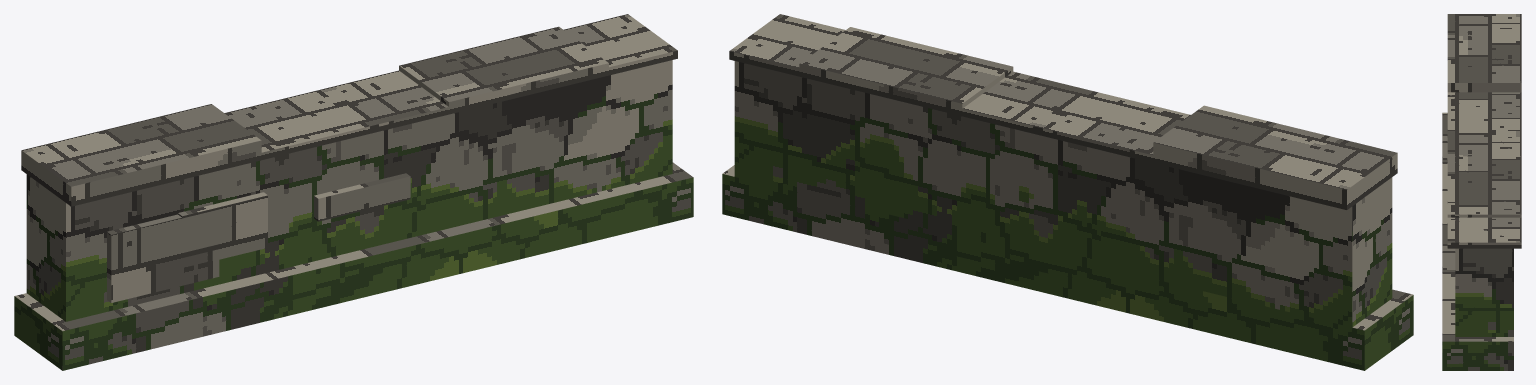
File: MV_Retaining_Stone.glb
3 renders of one model, left to right at view 1: azimuth 30°, elevation 25°; view 2: azimuth 150°, elevation 25°; view 3: azimuth 270°, elevation 25°, orthographic. The views are drawn at different scales.
Visible parts, largest first — view 1: MV_Retaining_Stone_4m_A.MV_Retaining_Stone; view 2: MV_Retaining_Stone_4m_A.MV_Retaining_Stone; view 3: MV_Retaining_Stone_4m_A.MV_Retaining_Stone.
Part boxes in pixels (x1,y1,x2,y2): MV_Retaining_Stone_4m_A.MV_Retaining_Stone: [14, 14, 693, 370]; MV_Retaining_Stone_4m_A.MV_Retaining_Stone: [722, 14, 1413, 370]; MV_Retaining_Stone_4m_A.MV_Retaining_Stone: [1442, 14, 1521, 370].
Size of the model in its own units: 4.16 by 1.13 by 0.61.
2 materials, 2 textured.
